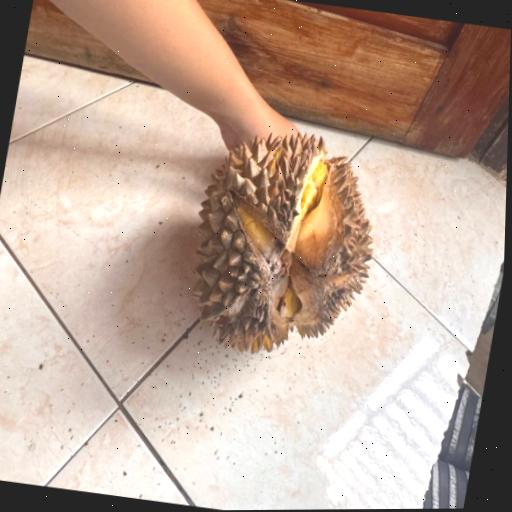rot: (136, 97, 413, 389)
